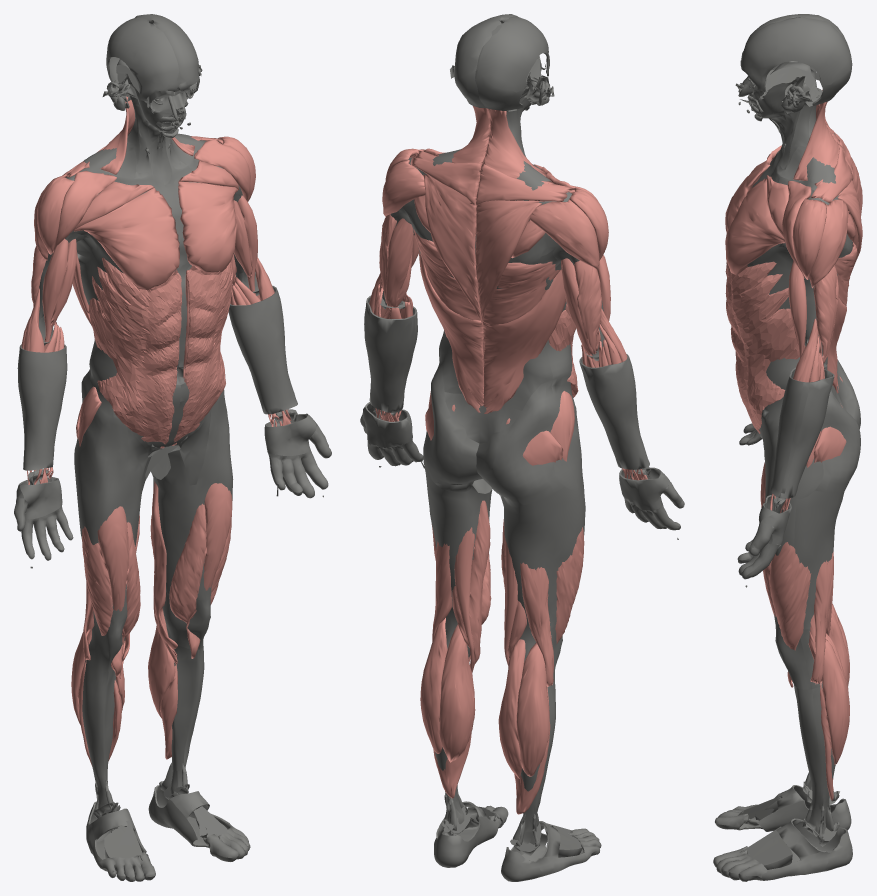
Rendered from body-map.glb.
The picture shows the model from 3 angles, left to right: view 1: azimuth 30°, elevation 25°; view 2: azimuth 150°, elevation 25°; view 3: azimuth 270°, elevation 25°; orthographic projection. The views are drawn at different scales.
Visible parts, largest first — view 1: body, abs, chest, quads, calves, biceps, delts_front, forearms, hamstrings, delts_side, upper_back, glutes; view 2: body, upper_back, lats, calves, hamstrings, triceps, delts_rear, forearms, glutes, quads, delts_side, abs (+1 smaller); view 3: body, abs, chest, upper_back, calves, quads, hamstrings, delts_side, delts_rear, triceps, lats, forearms (+3 smaller).
Boxes of the visible parts, x1,y1,x2,y2 form: body: (14,14,331,881); abs: (88,257,233,448); chest: (73,160,239,290); quads: (82,483,232,676); calves: (71,607,177,766); biceps: (42,195,257,350); delts_front: (53,139,250,252); forearms: (21,257,291,484); hamstrings: (83,481,177,678); delts_side: (37,136,255,254); upper_back: (62,96,221,177); glutes: (76,386,101,446); body: (360,14,684,881); upper_back: (410,106,574,324); lats: (413,229,565,413); calves: (420,618,550,814); hamstrings: (432,500,554,686); triceps: (379,214,601,358); delts_rear: (382,160,599,271); forearms: (369,273,647,480); glutes: (425,391,574,465); quads: (431,524,584,661); delts_side: (385,148,608,260); abs: (548,303,578,397); body: (713,14,860,881); abs: (725,261,805,433); chest: (725,145,788,274); upper_back: (793,89,862,274); calves: (820,604,849,800); quads: (760,462,811,687); hamstrings: (808,551,833,684); delts_side: (792,198,826,279); delts_rear: (809,129,848,288); triceps: (813,264,838,362); lats: (827,242,857,393); forearms: (770,318,824,512).
Bounding box in the file's own units: 0.398 × 1 × 0.1625.
